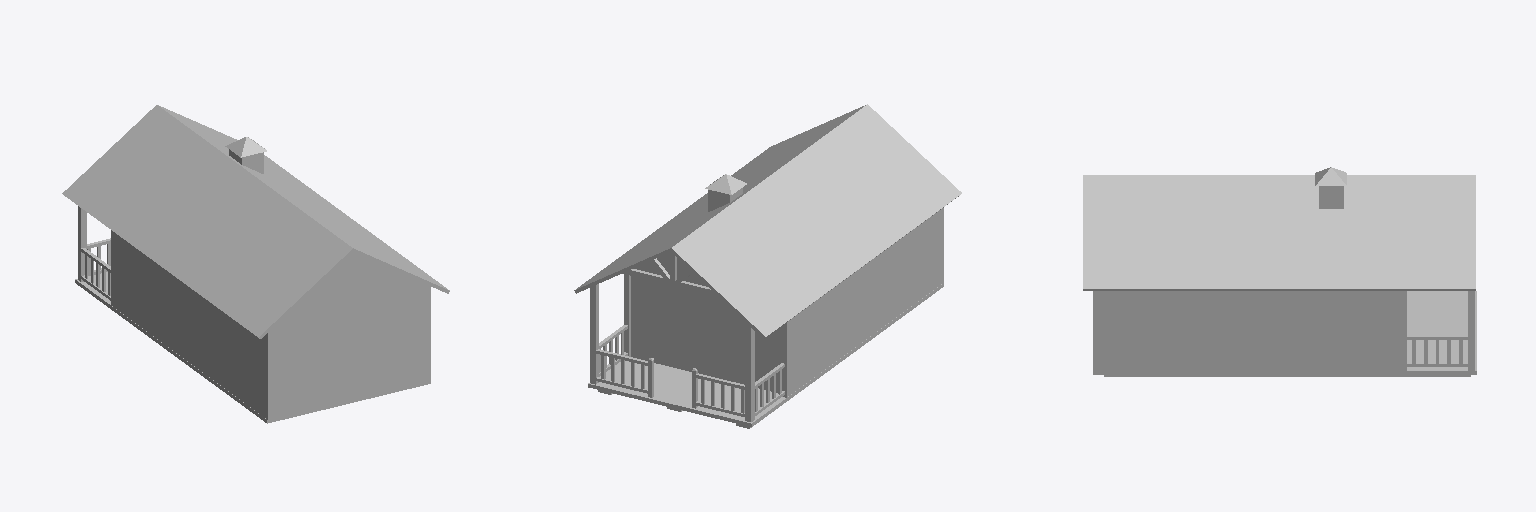
The model's file is cottage1.obj.
The picture shows the model from 3 angles: view 1: azimuth 30°, elevation 25°; view 2: azimuth 150°, elevation 25°; view 3: azimuth 270°, elevation 25°; orthographic projection.
Parts seen in each view (by area): view 1: Cottage_House; view 2: Cottage_House; view 3: Cottage_House.
Boxes of the visible parts, <box> form: Cottage_House: <box>62,105,449,423</box>; Cottage_House: <box>574,104,961,428</box>; Cottage_House: <box>1083,167,1476,376</box>.
Size of the model in its own units: 9.97 by 9.61 by 17.71.